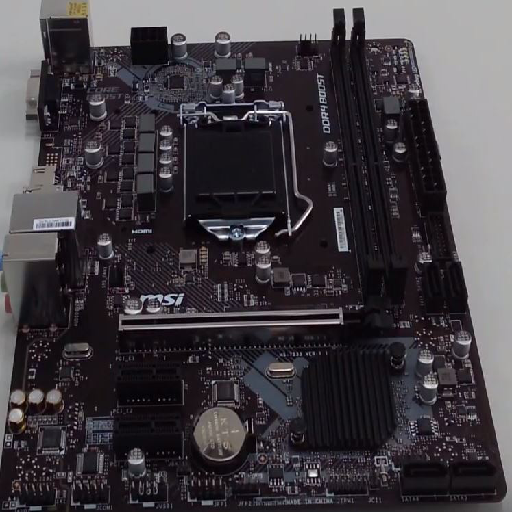CPU: (178, 102, 301, 246)
GPU: (112, 307, 391, 330)
MOTHERBOARD: (3, 9, 510, 504)
RAM: (324, 10, 409, 302)
